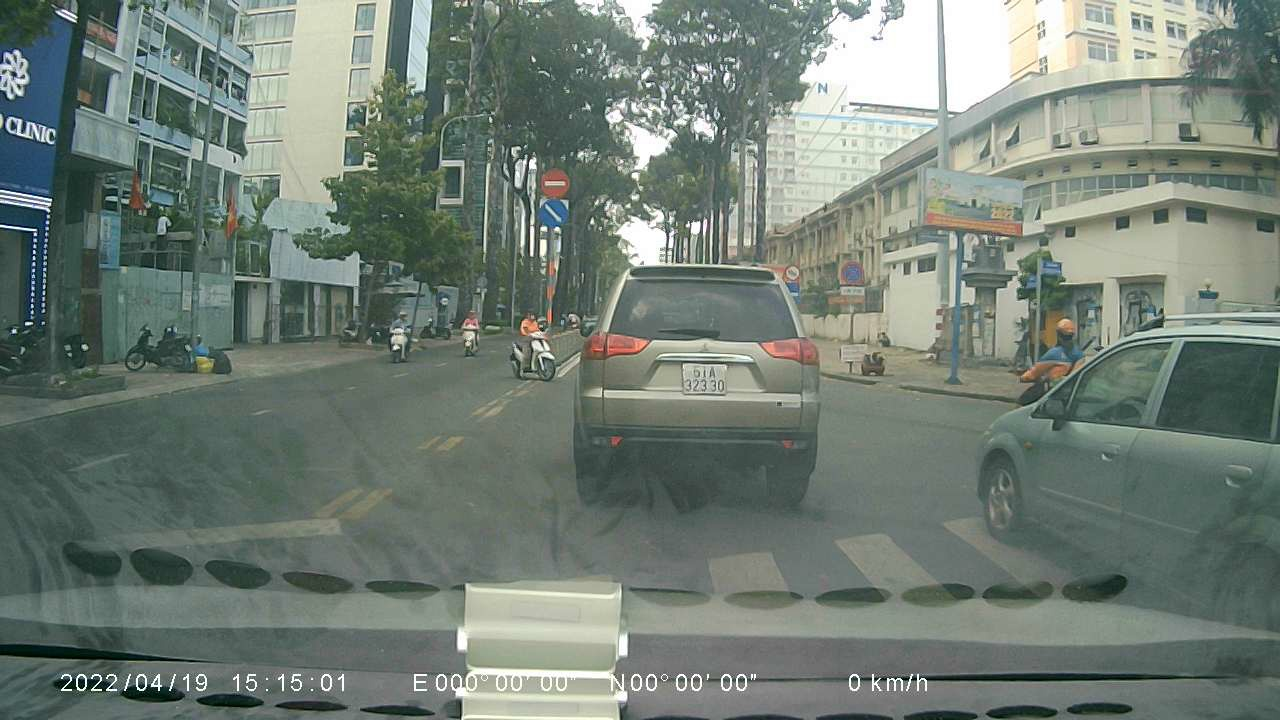Cam di nguoc chieu: (538, 164, 570, 195)
Huong di phai re phai: (538, 198, 568, 227)
